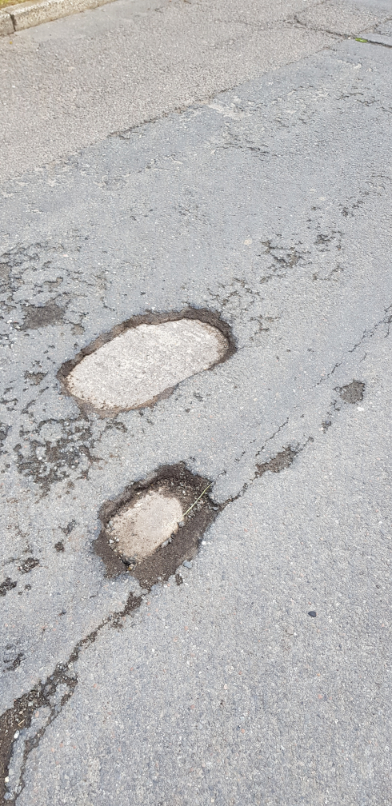pothole: (53, 302, 245, 416), (89, 455, 225, 589)
